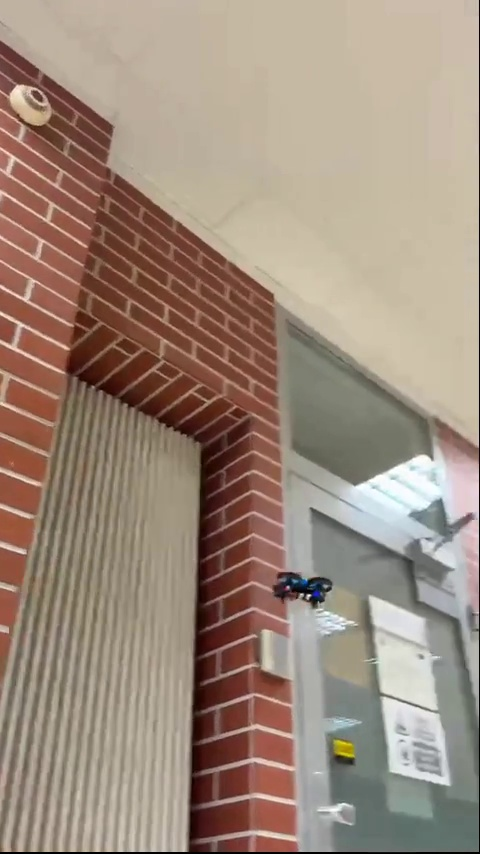drone: (266, 565, 333, 608)
